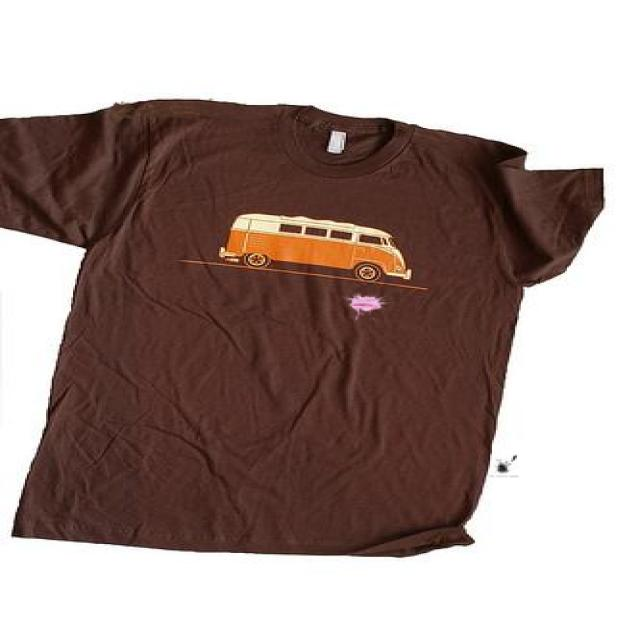stain: (346, 292, 387, 318)
